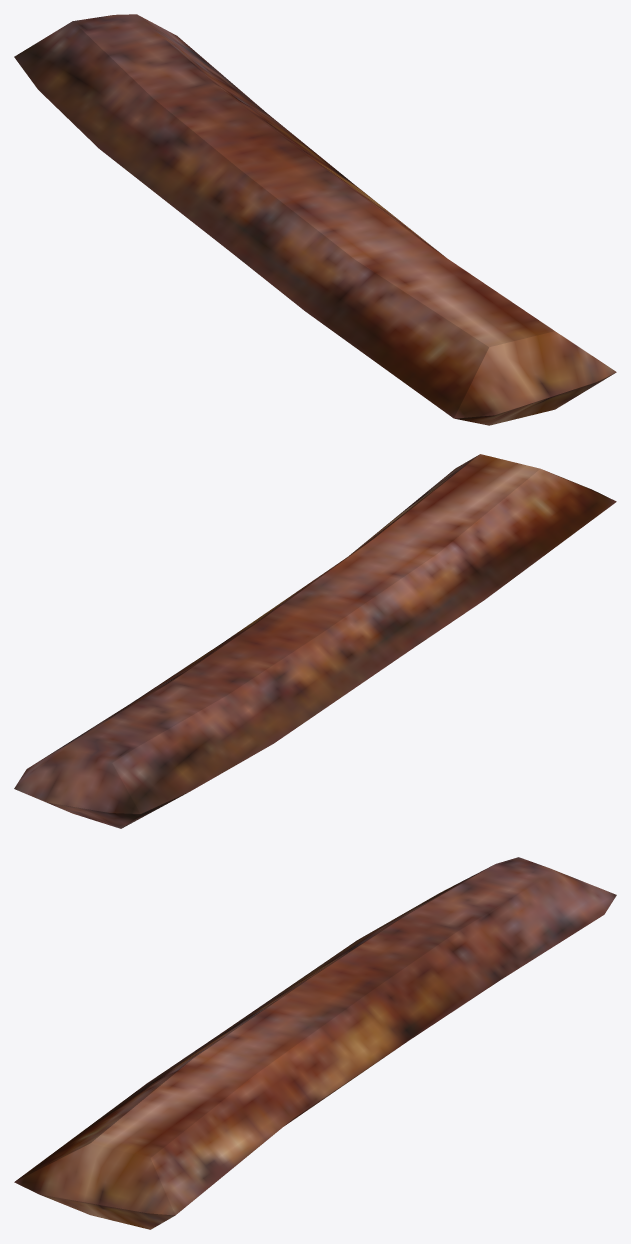
File: dagasi01a.fbx
3 renders of one model, top to bottom at view 1: azimuth 30°, elevation 25°; view 2: azimuth 150°, elevation 25°; view 3: azimuth 330°, elevation 25°, orthographic. The views are drawn at different scales.
Visible parts, largest first — view 1: dagasi01a; view 2: dagasi01a; view 3: dagasi01a.
Part boxes in pixels (bbox=[...]): dagasi01a: bbox=[14, 14, 616, 425]; dagasi01a: bbox=[14, 454, 616, 828]; dagasi01a: bbox=[14, 857, 616, 1229].
Size of the model in its own units: 6.08 by 2.45 by 28.26.
